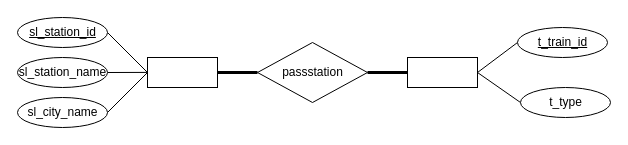
The diagram is 628 pixels wide and 145 high, and some of its shapes have lost their labels. Here are the shapes that lost their labels. From the top down, the centre of each, then its label:
the point at 182,72: stationlist
the point at 442,72: train
